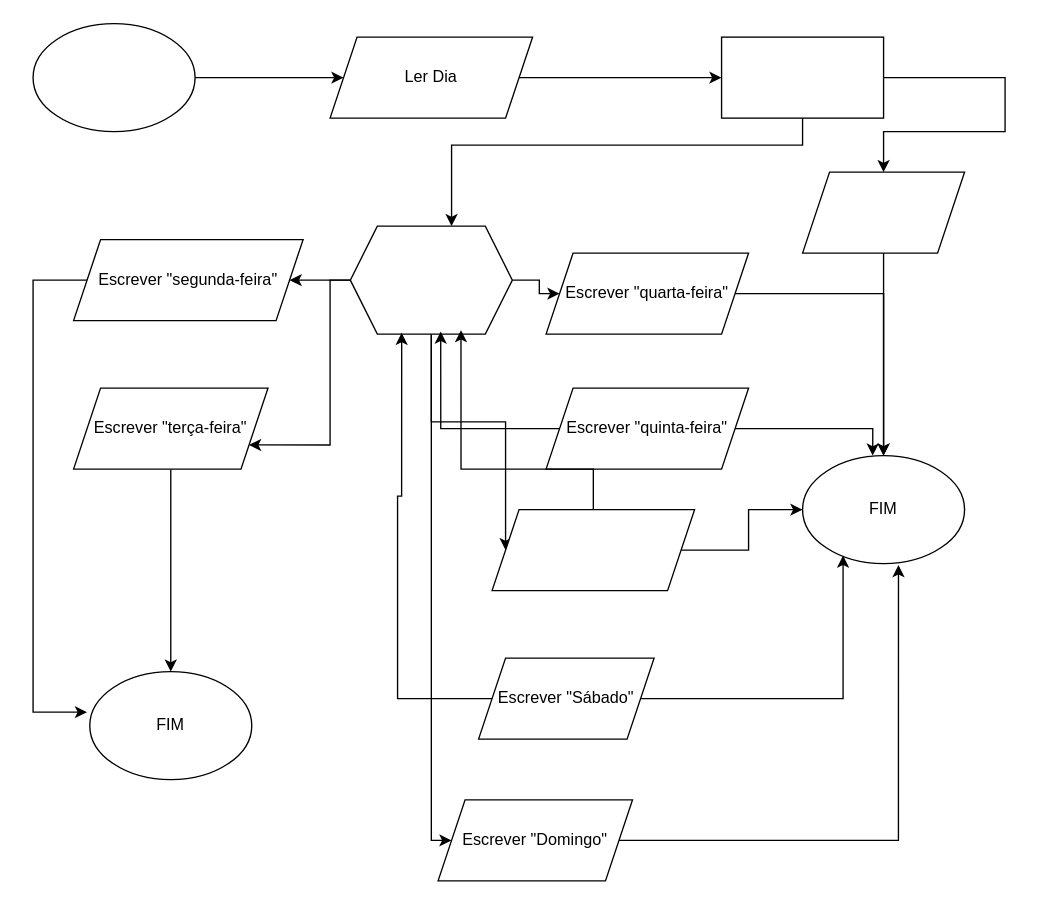
The diagram is 1040 pixels wide and 905 high, and some of its shapes have lost their labels. Here are the shapes that lost their labels. From the top down, the centre of each, then its label:
the point at 113,77: Início
the point at 802,77: SE DIA 7
the point at 883,212: Escrever "Dia Inválido"
the point at 430,279: DIA
the point at 593,549: Escrever "sexta-feira"
